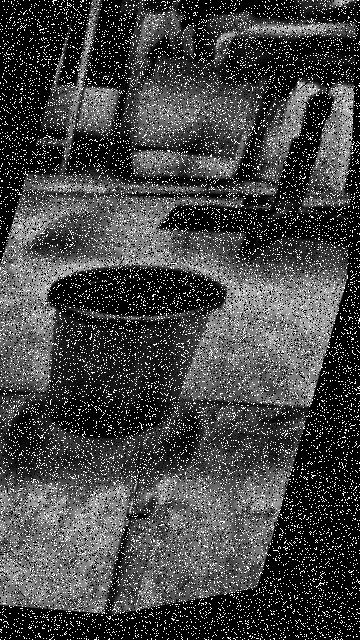pot: (46, 265, 225, 437)
